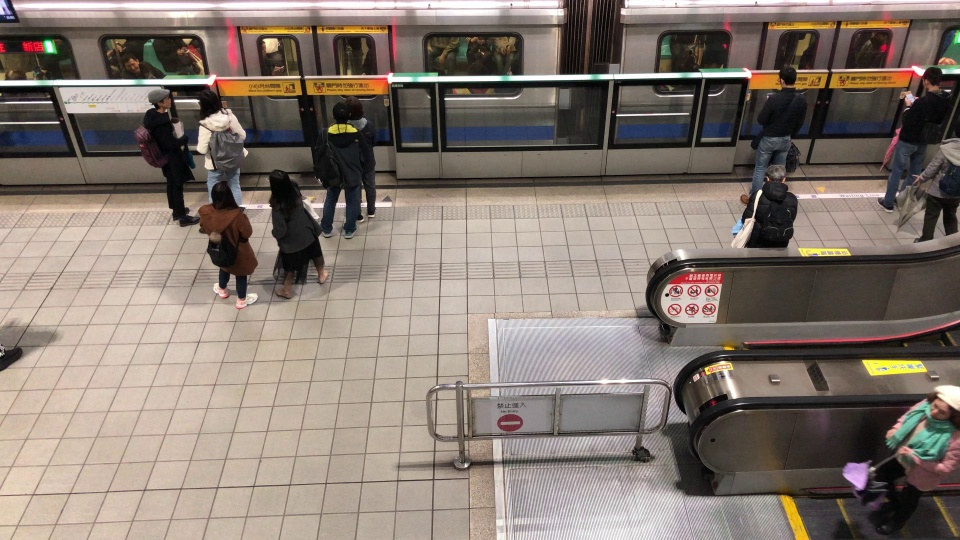person_head: (926, 383, 960, 423), (207, 180, 239, 211), (263, 169, 294, 200), (920, 66, 945, 92), (148, 87, 173, 112), (328, 102, 352, 126), (198, 90, 220, 116), (776, 66, 798, 90), (765, 163, 787, 184), (347, 97, 366, 120), (948, 127, 960, 139)
person_vbox: (844, 382, 959, 540), (870, 65, 957, 215), (129, 87, 203, 230), (734, 66, 807, 205), (257, 169, 333, 300), (191, 181, 263, 311), (184, 92, 250, 216), (893, 127, 960, 245), (313, 102, 362, 246), (730, 163, 804, 251), (343, 95, 384, 224)
